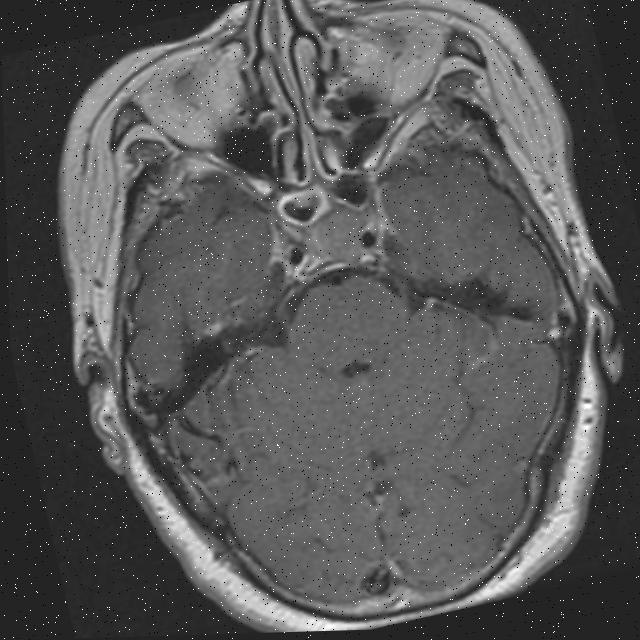Pituitary: (306, 204, 372, 271)
